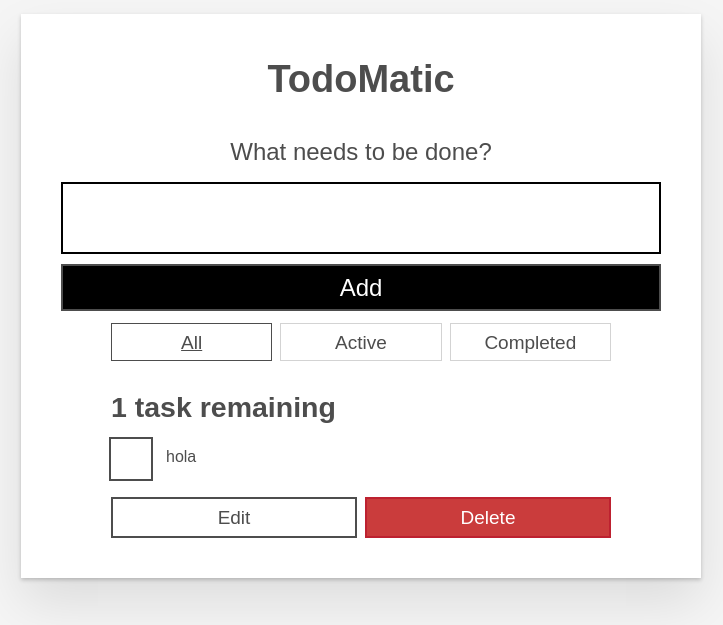
Test filters › Should filter by completed
The width and height of the screenshot is (723, 625).
Click the text "Completed" at (530, 342), box top-left (484, 332), bottom-right (576, 353)
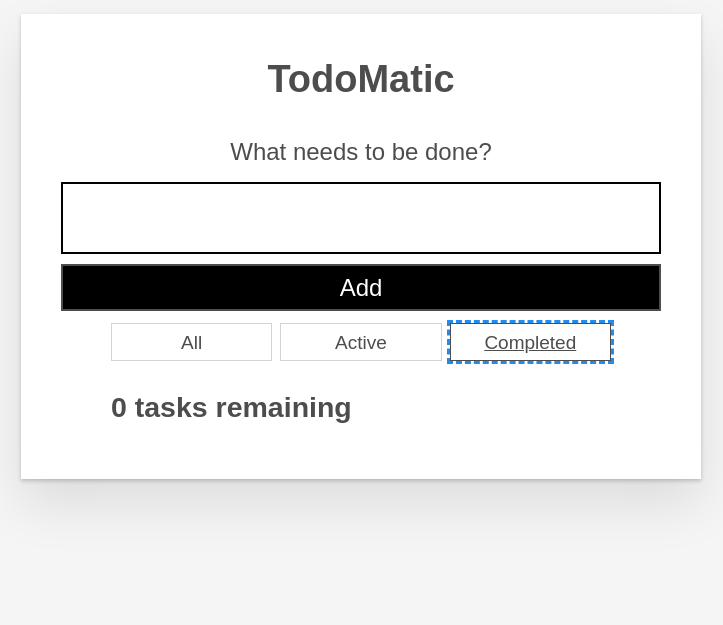
Result: no checkboxes with test id "todo-label" are shown
